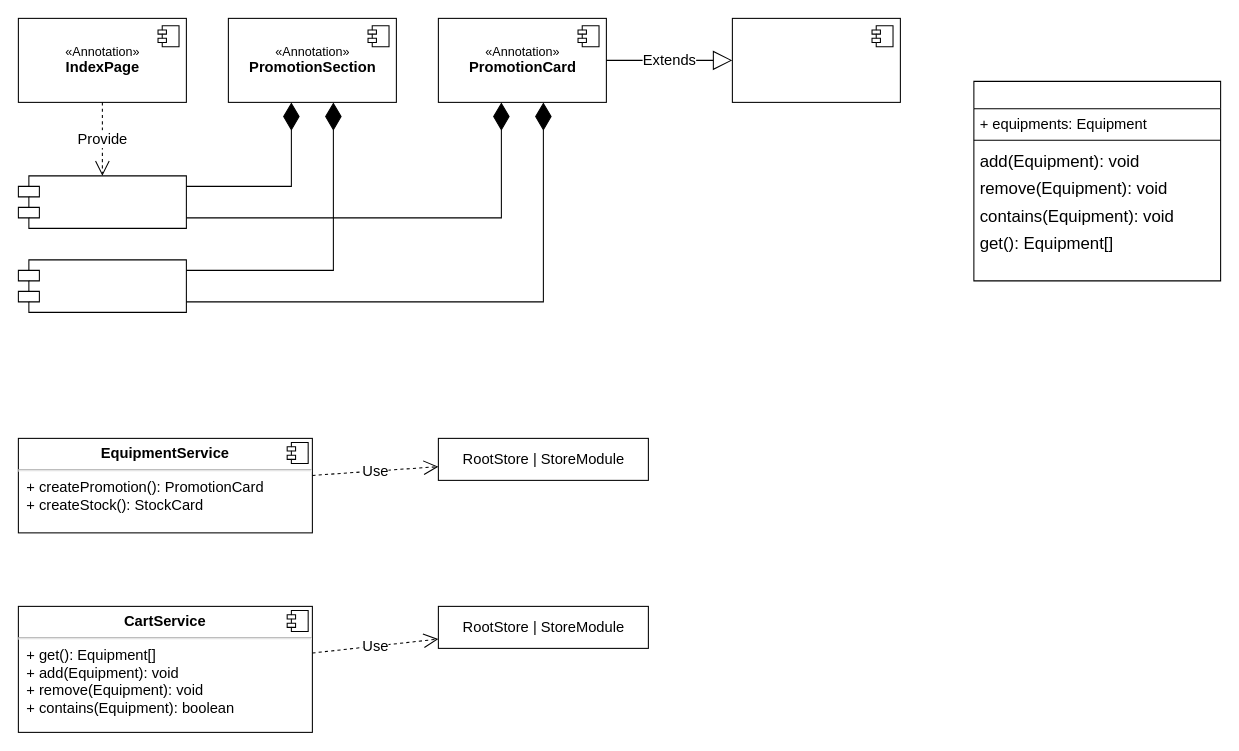
This 1239x751 diagram has some shape labels left out. Each missing label, with the box of its shape:
CartModule: (973, 80, 1221, 281)
CartService: (17, 259, 186, 312)
EquipmentService: (17, 175, 186, 228)
«Annotation» EquipmentCard: (731, 17, 900, 102)
